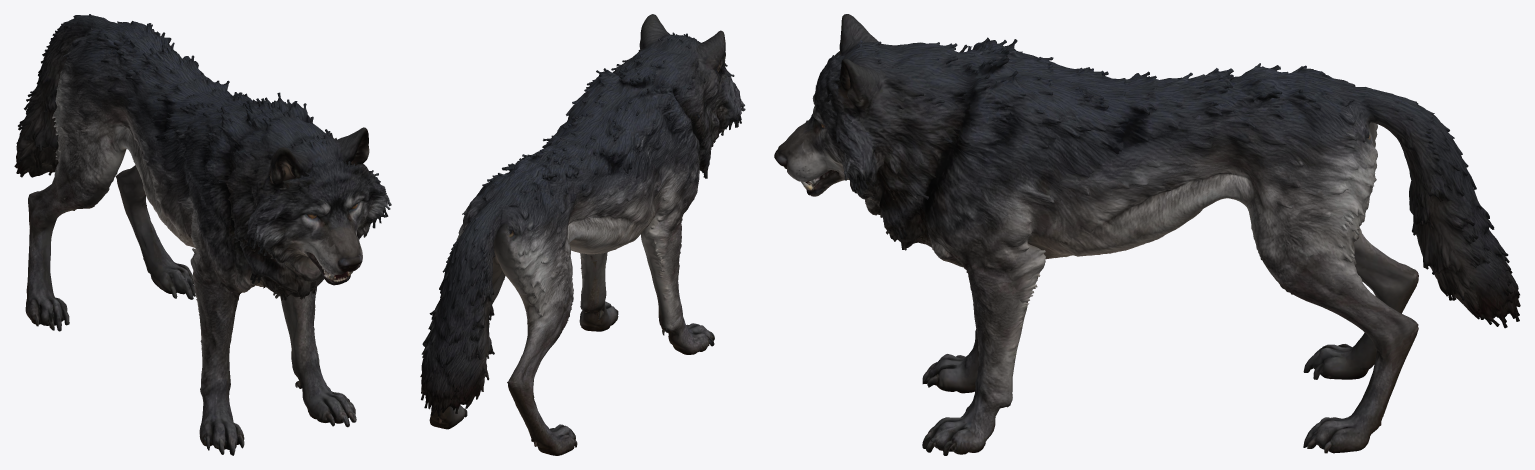
3 renders of one model, left to right at view 1: azimuth 30°, elevation 25°; view 2: azimuth 150°, elevation 25°; view 3: azimuth 270°, elevation 25°, orthographic. The views are drawn at different scales.
Parts seen in each view (by area): view 1: tripo_node_3b4e3db0; view 2: tripo_node_3b4e3db0; view 3: tripo_node_3b4e3db0.
Boxes of the visible parts, <box> form: tripo_node_3b4e3db0: <box>14,14,391,455</box>; tripo_node_3b4e3db0: <box>420,14,745,455</box>; tripo_node_3b4e3db0: <box>774,14,1520,455</box>.
Size of the model in its own units: 0.2842 by 0.5521 by 0.9796.
Materials: 1 (1 with a texture image).
